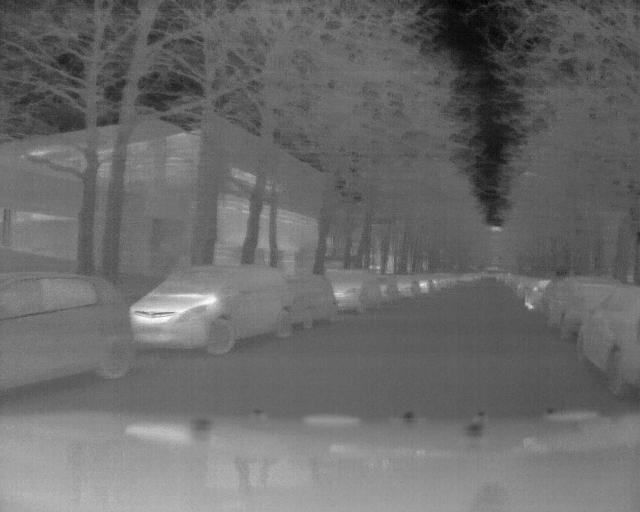car: (2, 266, 136, 380), (133, 260, 293, 355), (579, 286, 640, 397), (546, 274, 619, 336), (296, 271, 343, 328), (330, 266, 385, 313)
